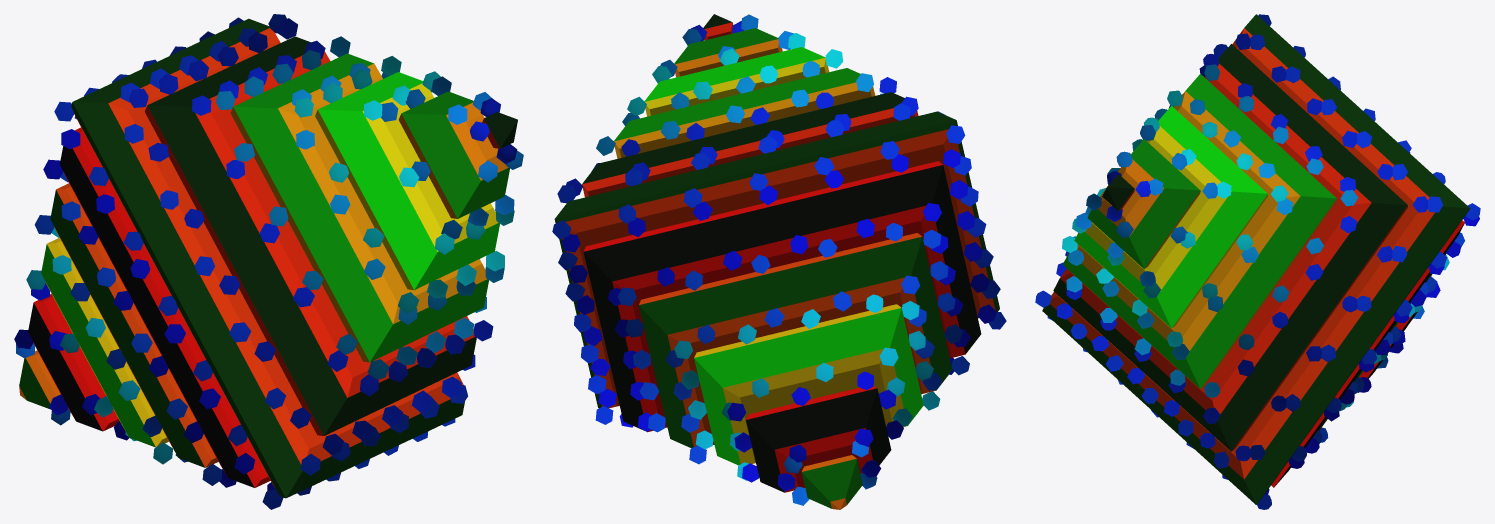
Rendered from FX_Mesh_Octahedron_B.fbx.
The picture shows the model from 3 angles, left to right: view 1: azimuth 30°, elevation 25°; view 2: azimuth 150°, elevation 25°; view 3: azimuth 270°, elevation 25°; orthographic projection. The views are drawn at different scales.
Visible parts, largest first — view 1: Octahedron_B; view 2: Octahedron_B; view 3: Octahedron_B.
Boxes of the visible parts, x1=… form: Octahedron_B: x1=14, y1=14, x2=523, y2=509; Octahedron_B: x1=552, y1=14, x2=1006, y2=509; Octahedron_B: x1=1035, y1=14, x2=1480, y2=509.
Size of the model in its own units: 945 by 941 by 1090.
